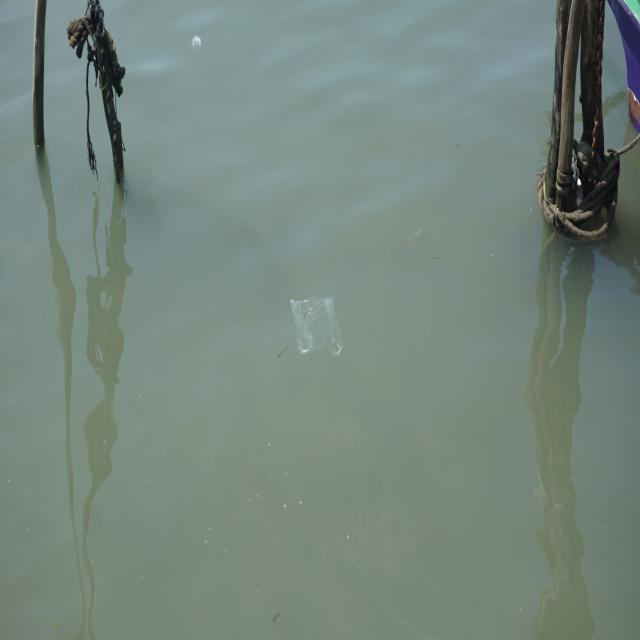Kantong Plastik: (289, 290, 345, 363), (189, 29, 207, 57)
